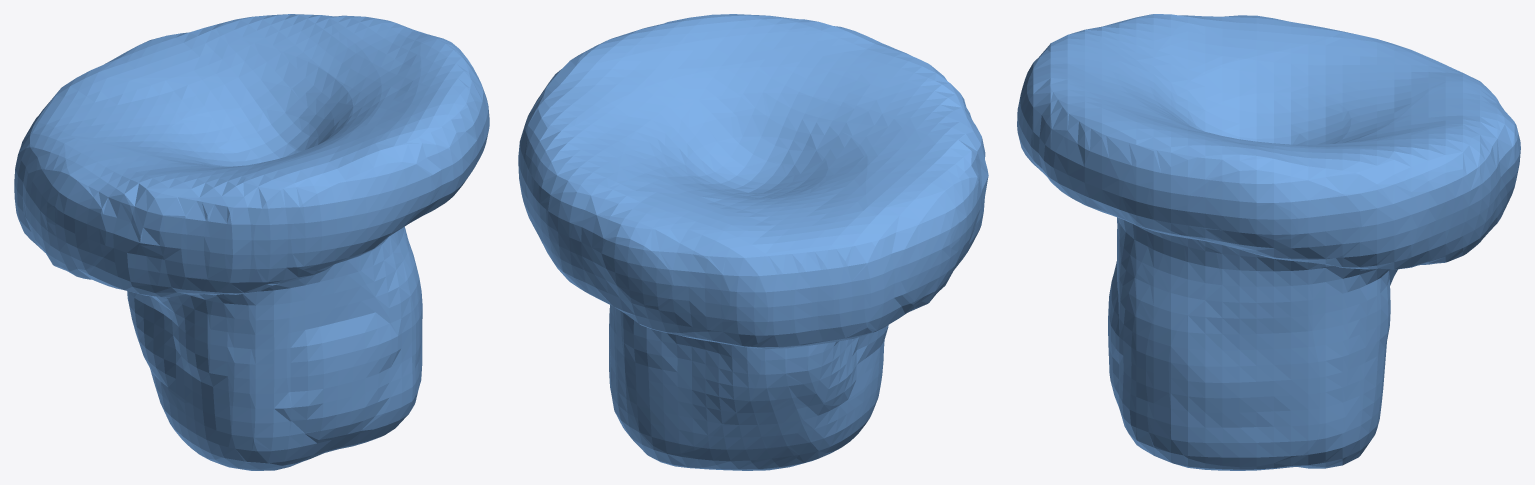
File: water_0009.glb
3 views of the same model, side by side, from view 1: azimuth 30°, elevation 25°; view 2: azimuth 150°, elevation 25°; view 3: azimuth 270°, elevation 25° (orthographic). The views are drawn at different scales.
Parts seen in each view (by area): view 1: Water_0009; view 2: Water_0009; view 3: Water_0009.
Part boxes in pixels (bbox=[...]): Water_0009: bbox=[14, 14, 489, 470]; Water_0009: bbox=[518, 14, 988, 470]; Water_0009: bbox=[1017, 14, 1520, 470].
Bounding box in the file's own units: 1.7 × 1.43 × 1.71.
